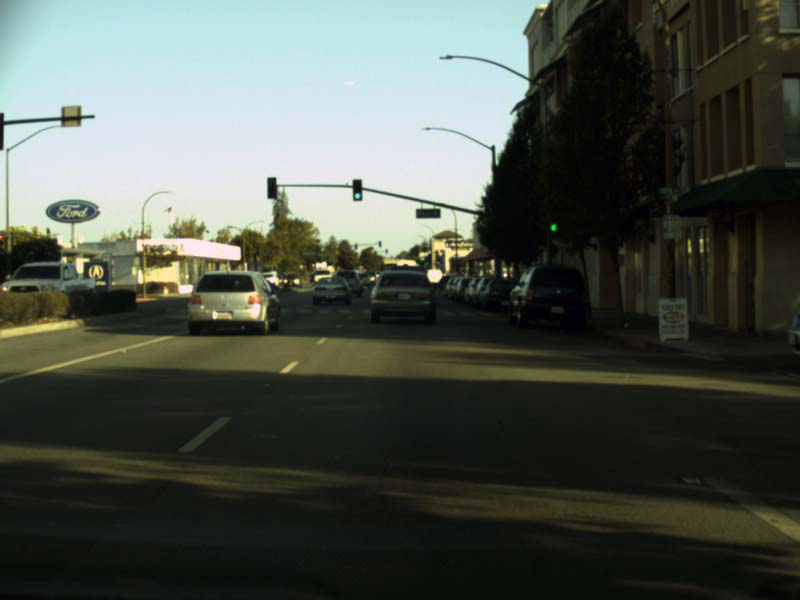Green: (352, 178, 362, 200), (549, 221, 559, 233)
